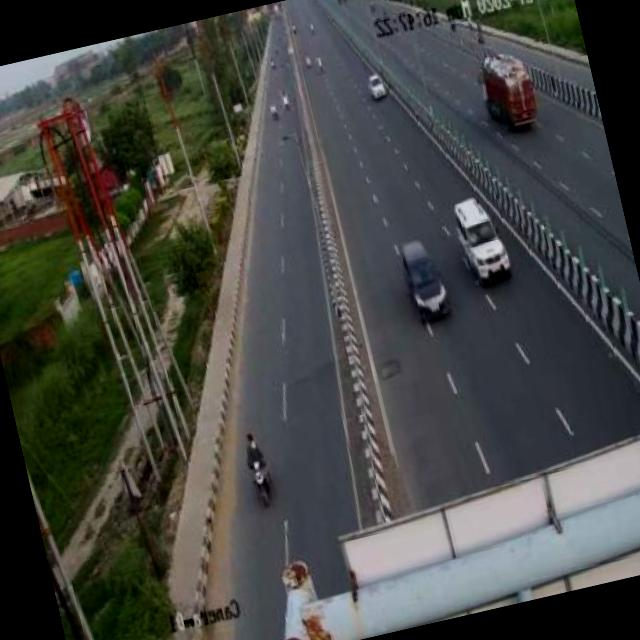car: (452, 186, 510, 289), (398, 236, 446, 322), (364, 74, 389, 106)
